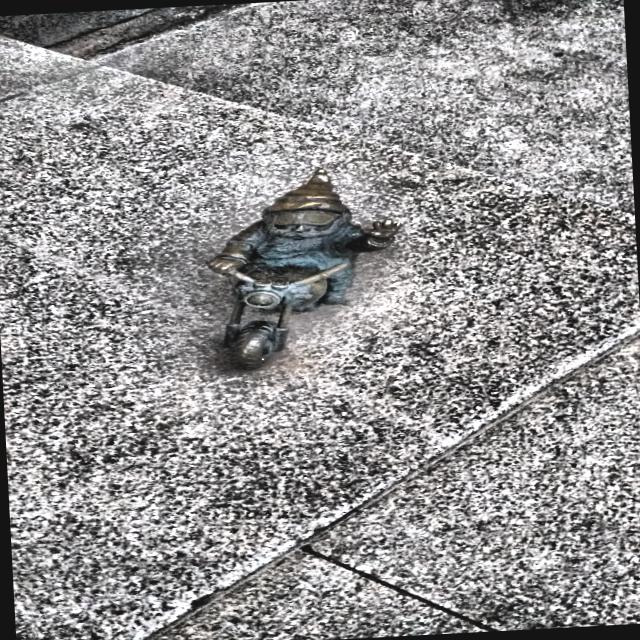Wentyl: (208, 170, 399, 369)
